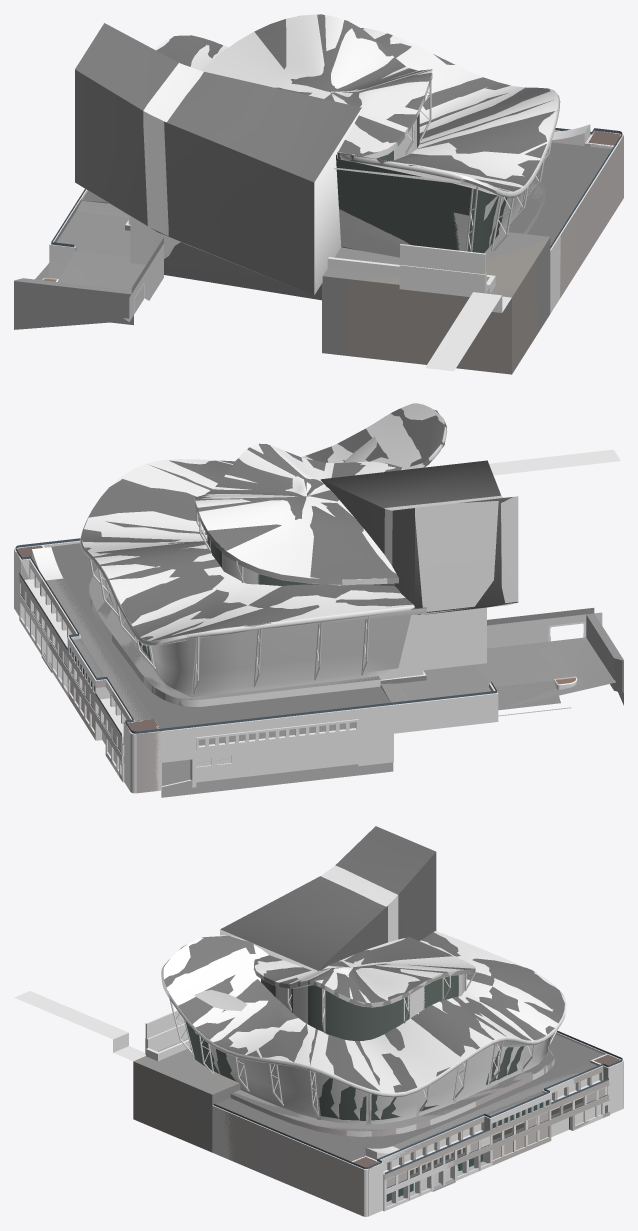
File: operahouse.dae
3 renders of one model, top to bottom at view 1: azimuth 30°, elevation 25°; view 2: azimuth 150°, elevation 25°; view 3: azimuth 270°, elevation 25°, orthographic. The views are drawn at different scales.
Visible parts, largest first — view 1: operahouse_a700, operahouse_a1400; view 2: operahouse_a1400, operahouse_a700; view 3: operahouse_a700, operahouse_a1400.
Boxes of the visible parts, x1,y1,x2,y2 form: operahouse_a700: (75, 14, 623, 374); operahouse_a1400: (14, 14, 623, 371); operahouse_a1400: (14, 403, 623, 793); operahouse_a700: (14, 408, 518, 797); operahouse_a700: (133, 826, 620, 1216); operahouse_a1400: (14, 865, 623, 1216).
Bounding box in the file's own units: 131 × 146 × 52.57.
